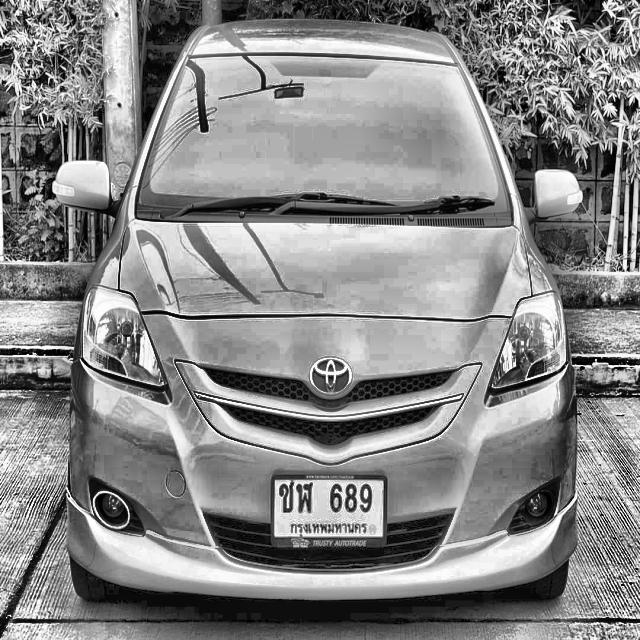license-plate: (270, 471, 389, 558)
